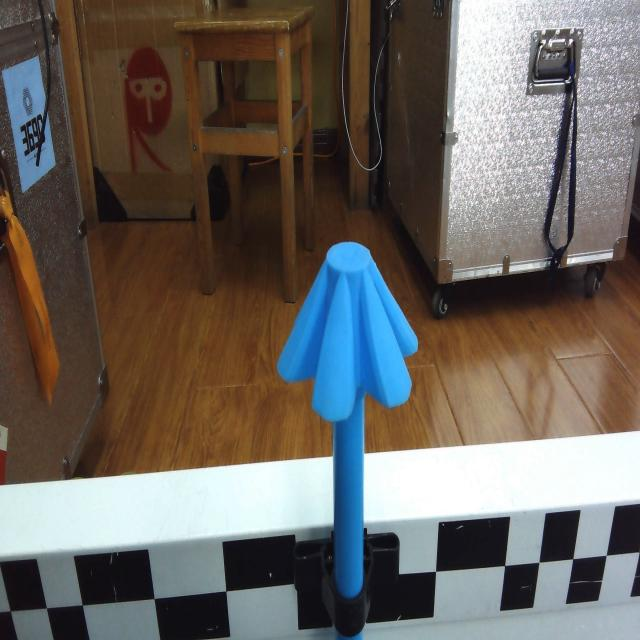zblue-Stake-Head: (277, 242, 419, 422)
